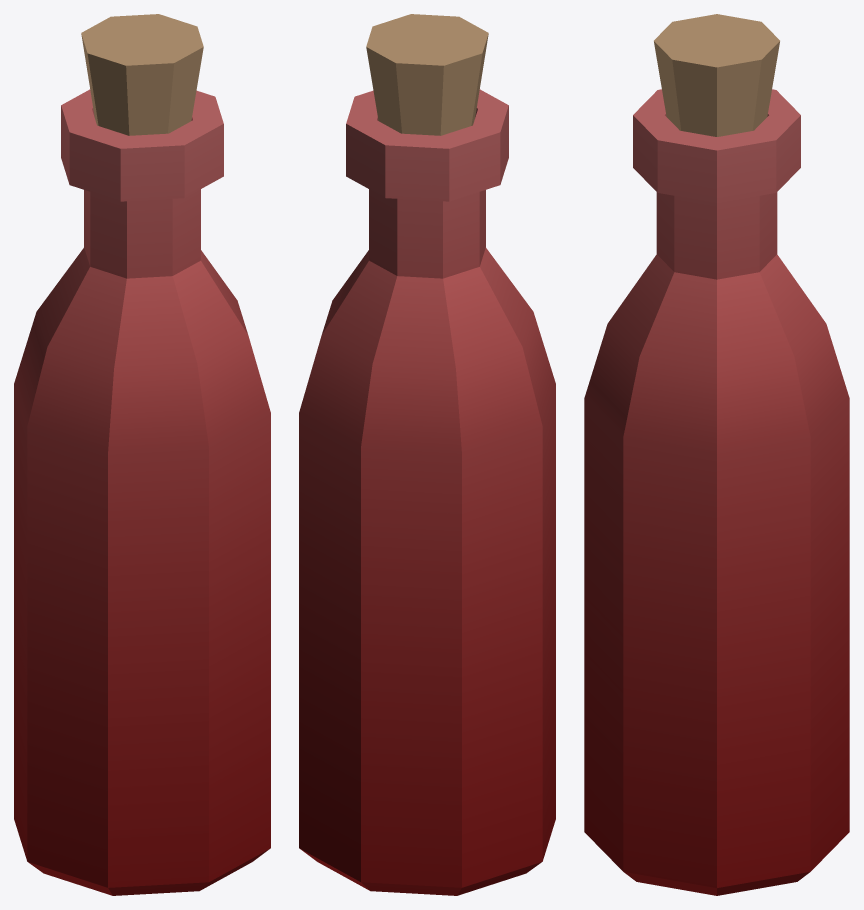
The model's file is Bottle_10.fbx.
3 views of the same model, side by side, from view 1: azimuth 30°, elevation 25°; view 2: azimuth 150°, elevation 25°; view 3: azimuth 270°, elevation 25° (orthographic).
Parts seen in each view (by area): view 1: Bottle_10_LOD0; view 2: Bottle_10_LOD0; view 3: Bottle_10_LOD0.
Part boxes in pixels (left/top/right/bottom): Bottle_10_LOD0: left=14, top=14, right=270, bottom=895; Bottle_10_LOD0: left=299, top=14, right=555, bottom=895; Bottle_10_LOD0: left=584, top=14, right=849, bottom=895.
Size of what is drawn, in the model's own units: 0.0692 by 0.2323 by 0.0692.
